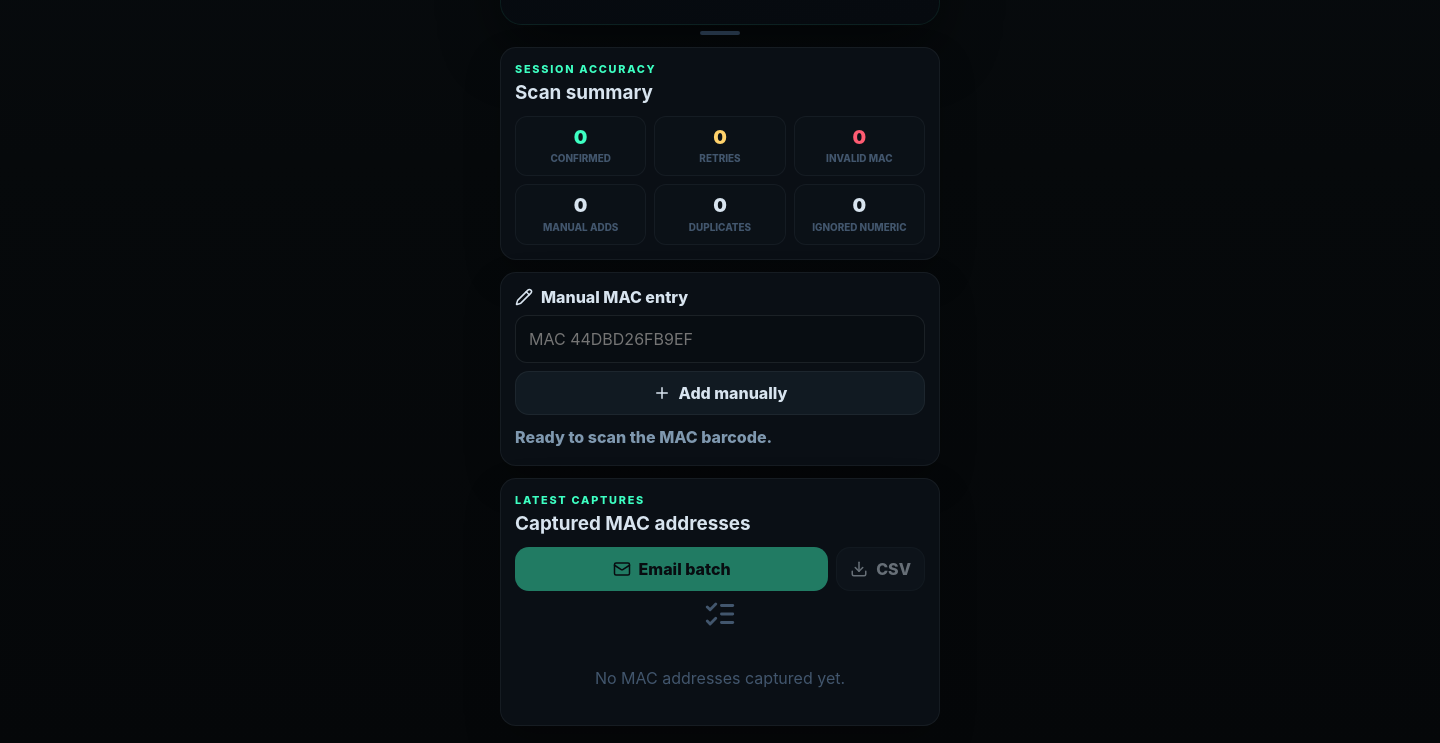
Scenario: App › emails the normalized MAC list
(page scrolled)
Type "44DBD26FB9EF" into the field labelled "Manual MAC entry" at (720, 338), box top-left (515, 314), bottom-right (925, 362)
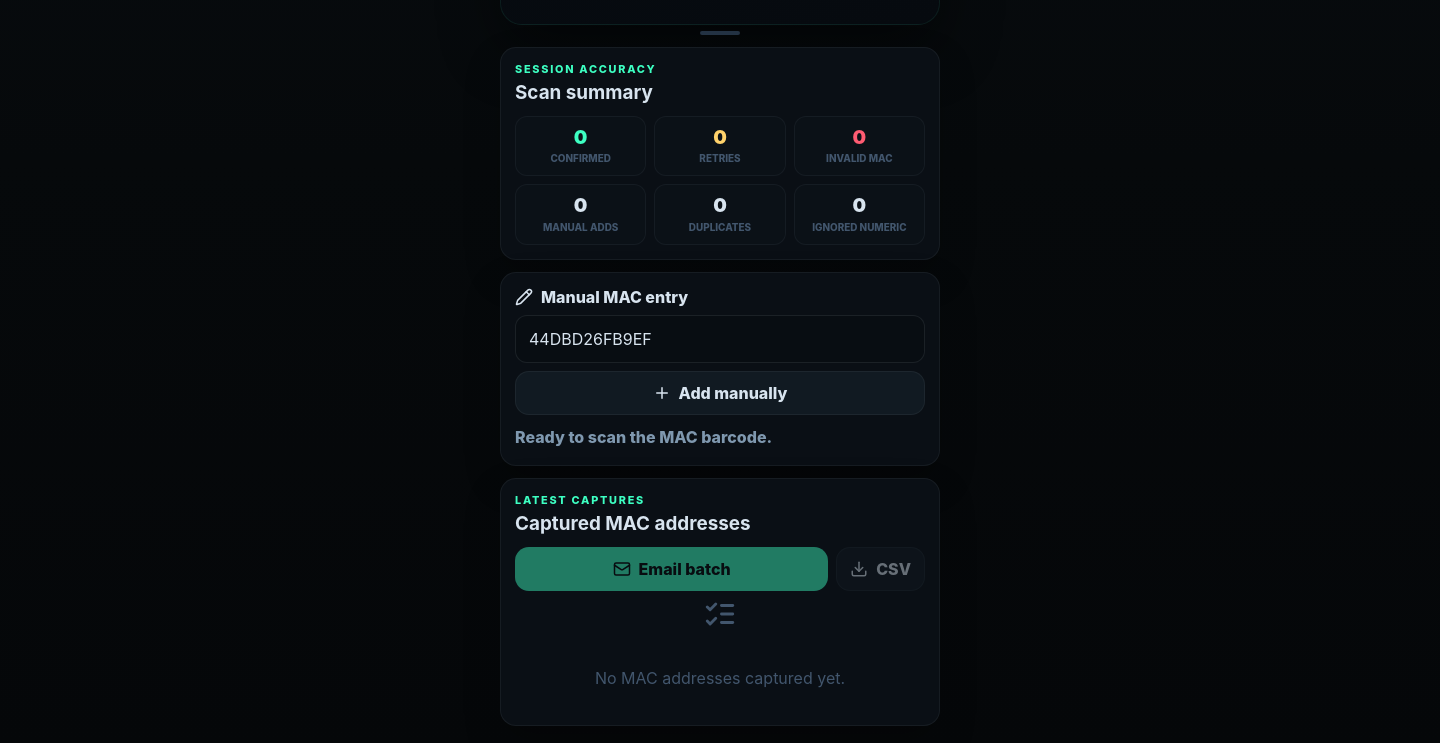
Click the button "Add manually" at (720, 392), box top-left (515, 370), bottom-right (925, 414)
(page scrolled)
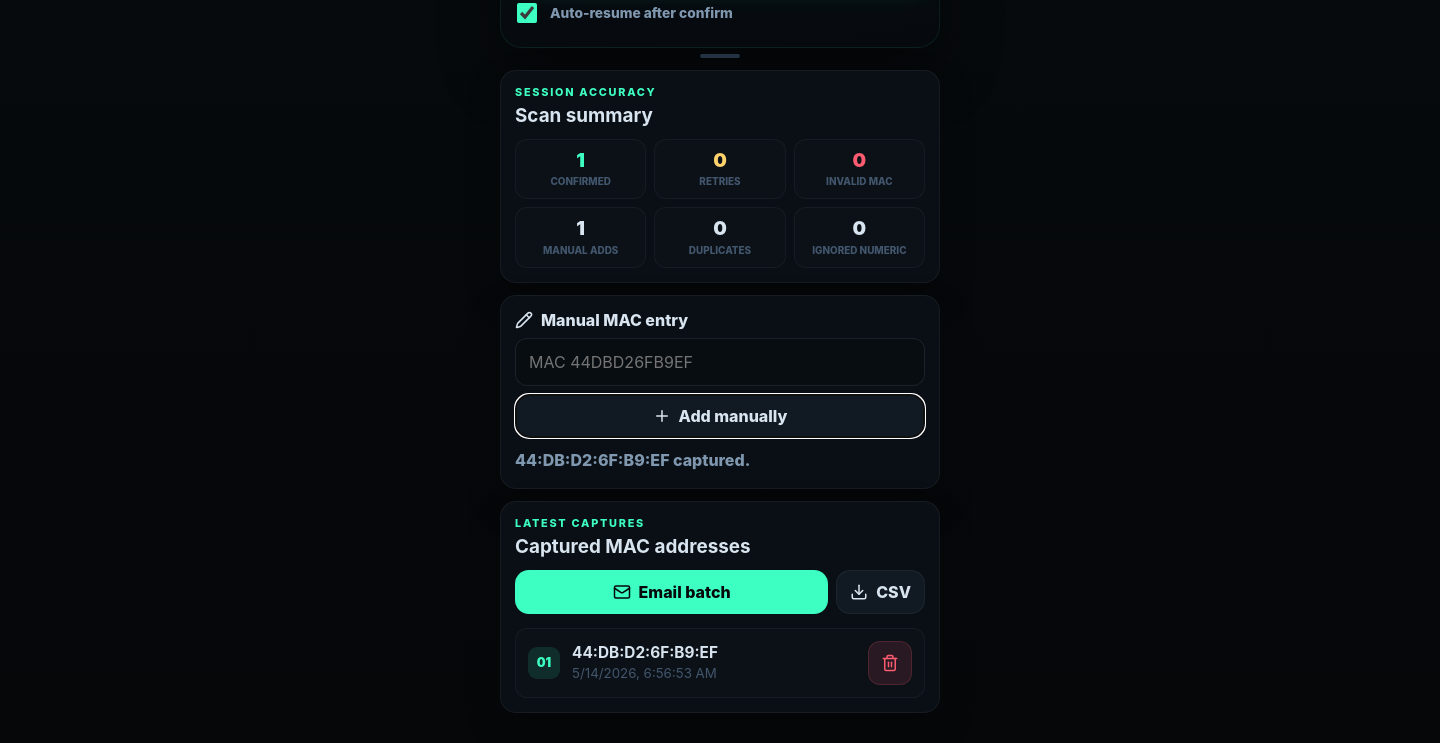
Click the button with aria-label "Email list" at (672, 592), box top-left (515, 570), bottom-right (828, 614)
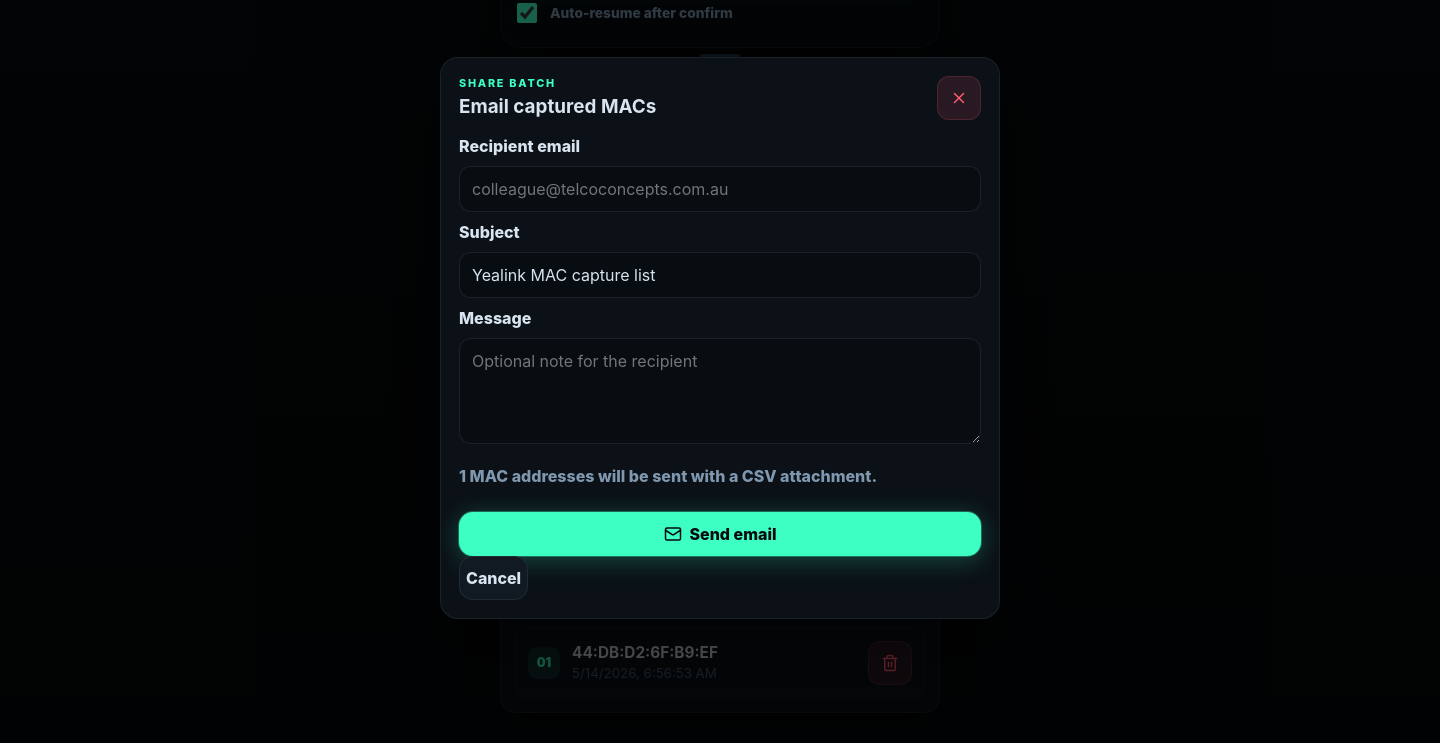
Type "ops@example.com" into the field labelled "Recipient email" at (720, 189), box top-left (459, 166), bottom-right (981, 212)
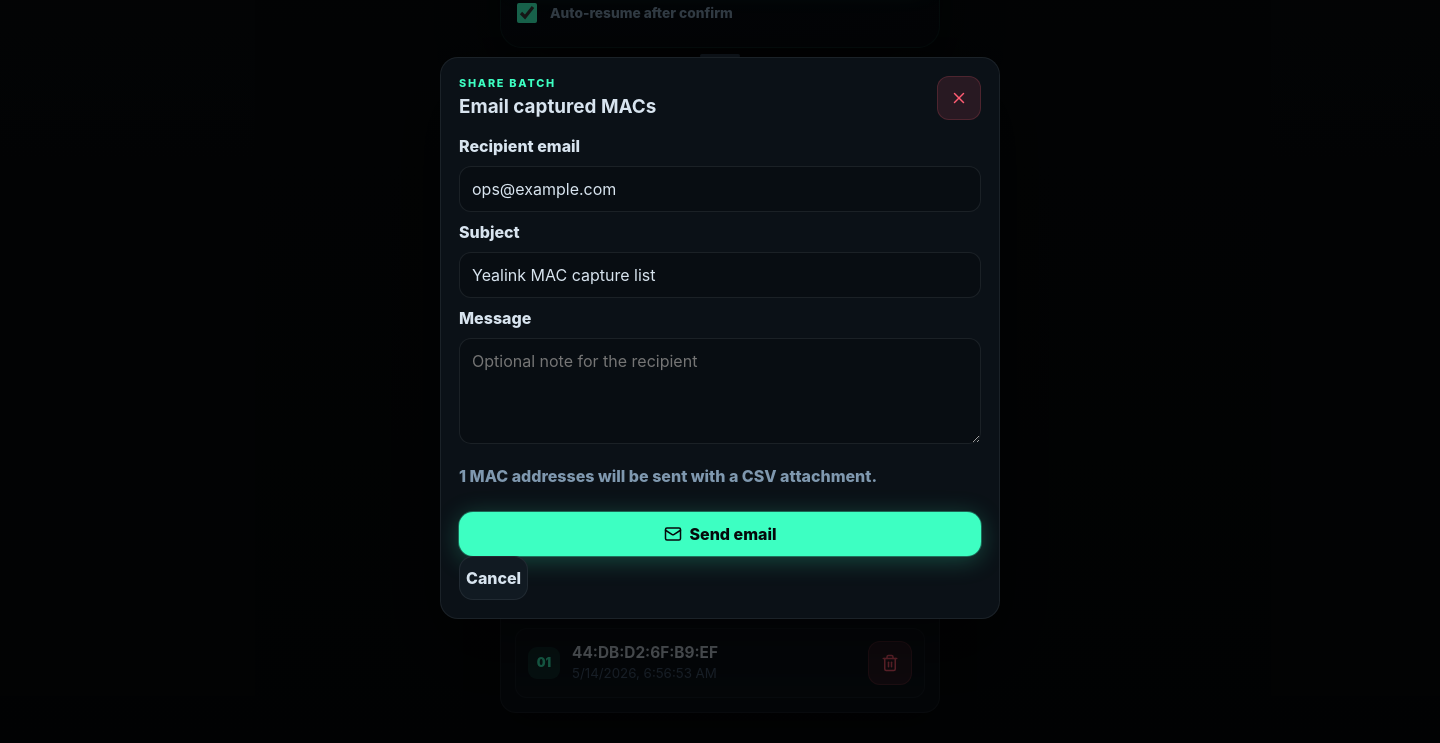
Click the button "Send email" at (720, 534), box top-left (459, 512), bottom-right (981, 556)
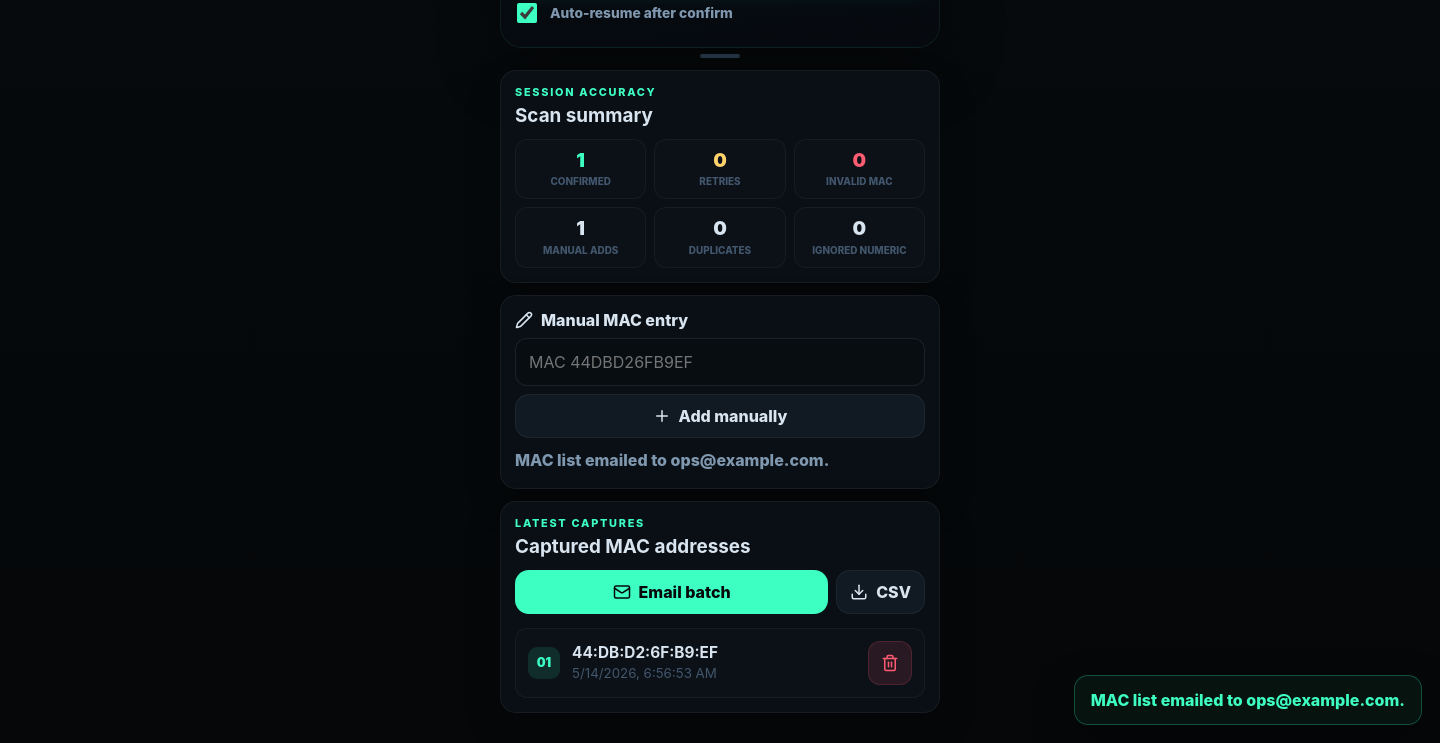
Expected: the text "MAC list emailed to ops@example.com." is shown 2 times, top-left (515, 450), bottom-right (829, 470); top-left (1074, 675), bottom-right (1422, 725)
Expected: the 2nd message "MAC list emailed to ops@example.com." is shown, top-left (1074, 675), bottom-right (1422, 725)
